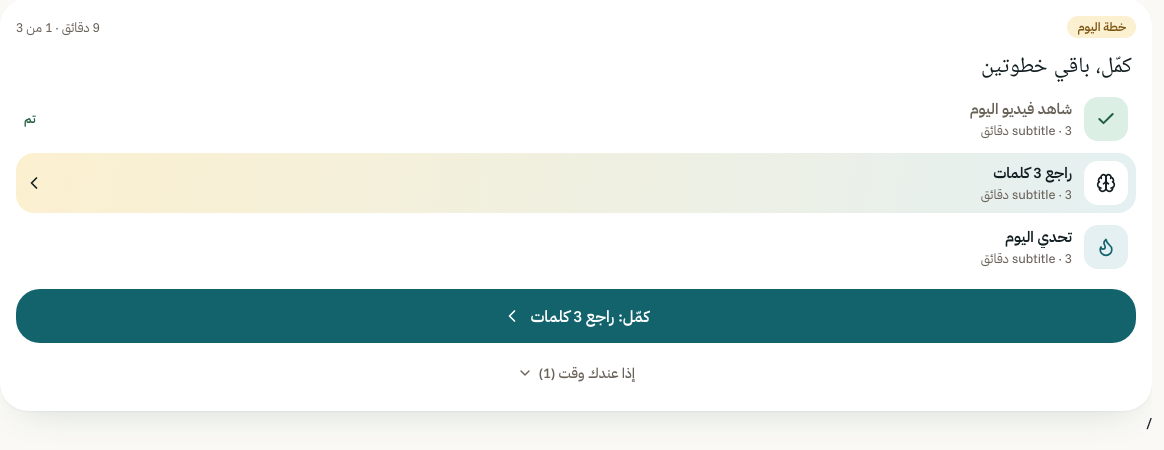
the button › continues with the first unfinished step
The width and height of the screenshot is (1164, 450).
What coordinates should you click on to do the following:
click the button "كمّل: راجع 3 كلمات"
I would click on:
 (576, 316)
Its box is left=16, top=289, right=1136, bottom=343.
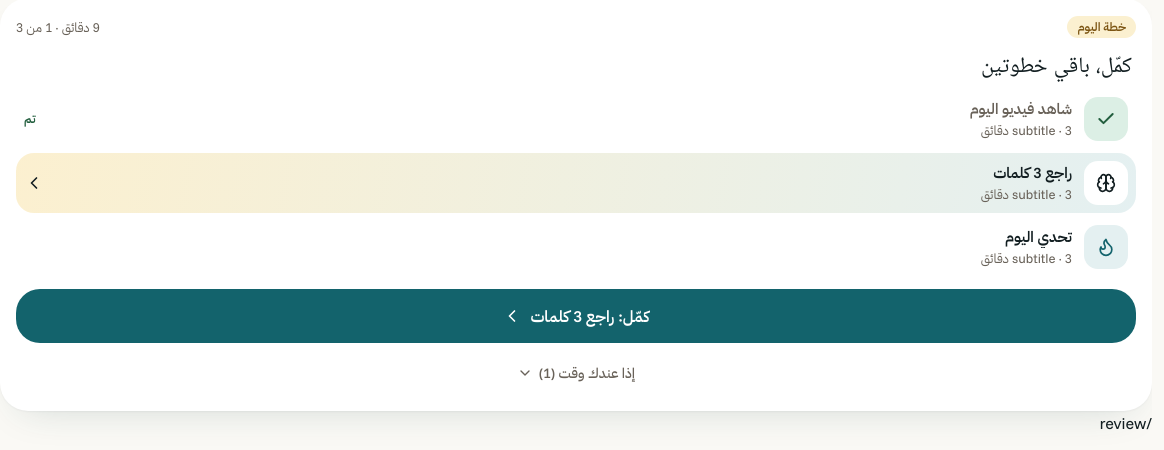
Now the text with test id "where" reads "/review", box left=1099, top=413, right=1152, bottom=433
